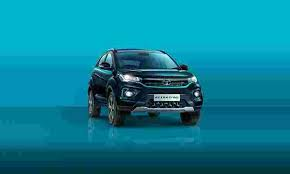Tata Nexon: (86, 48, 205, 129)
